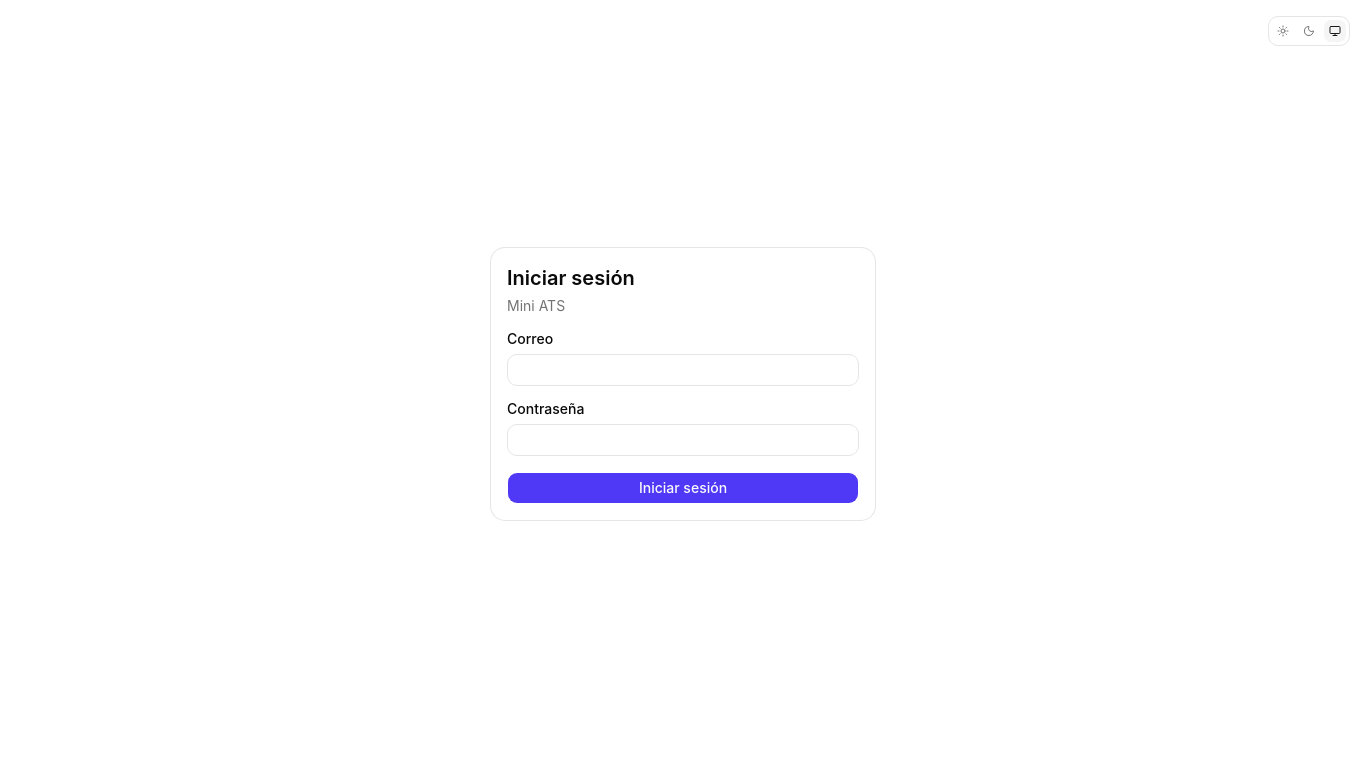
app router › goes back to the requested page after logging in
Type "ada@example.com" into the field labelled "Correo" at (683, 370), box [507,354,859,386]
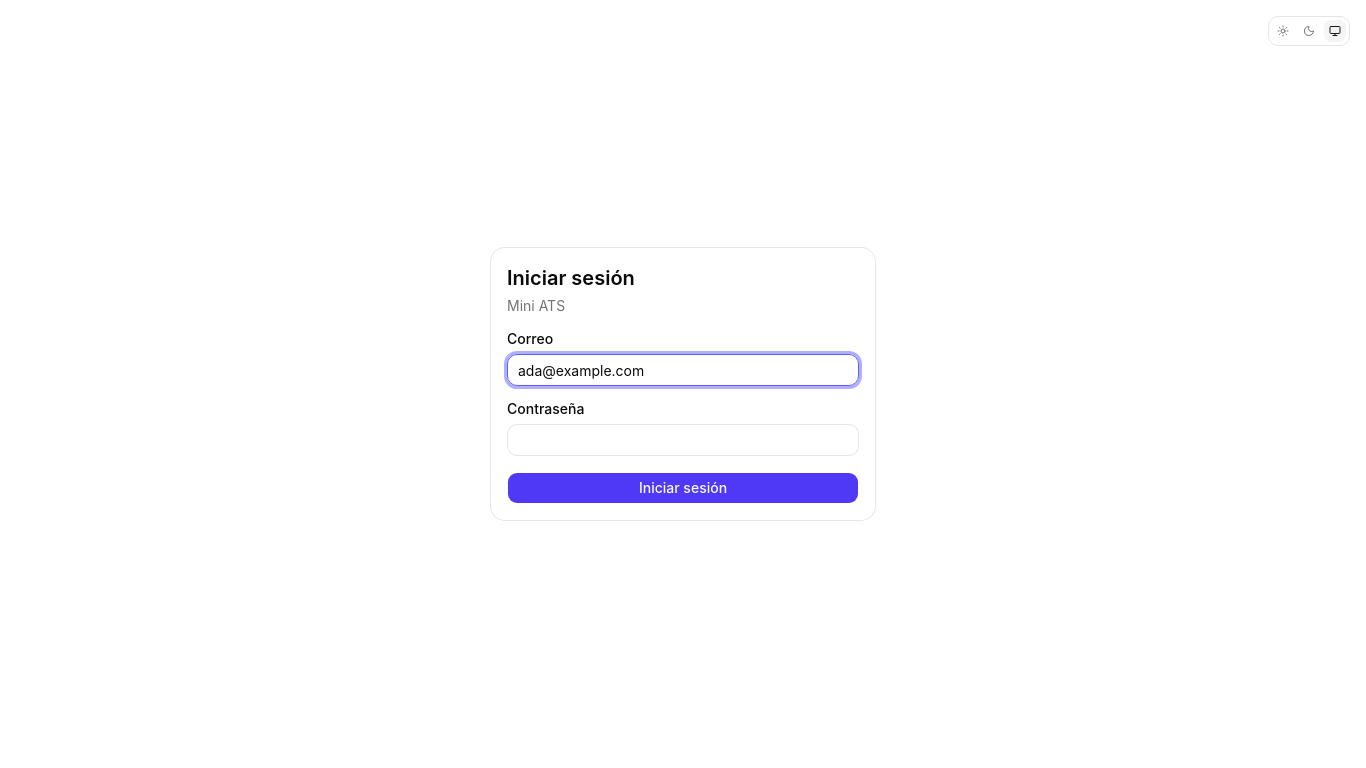
Type "Secreta-123" into the password field labelled "Contraseña" at (683, 440), box [507,424,859,456]
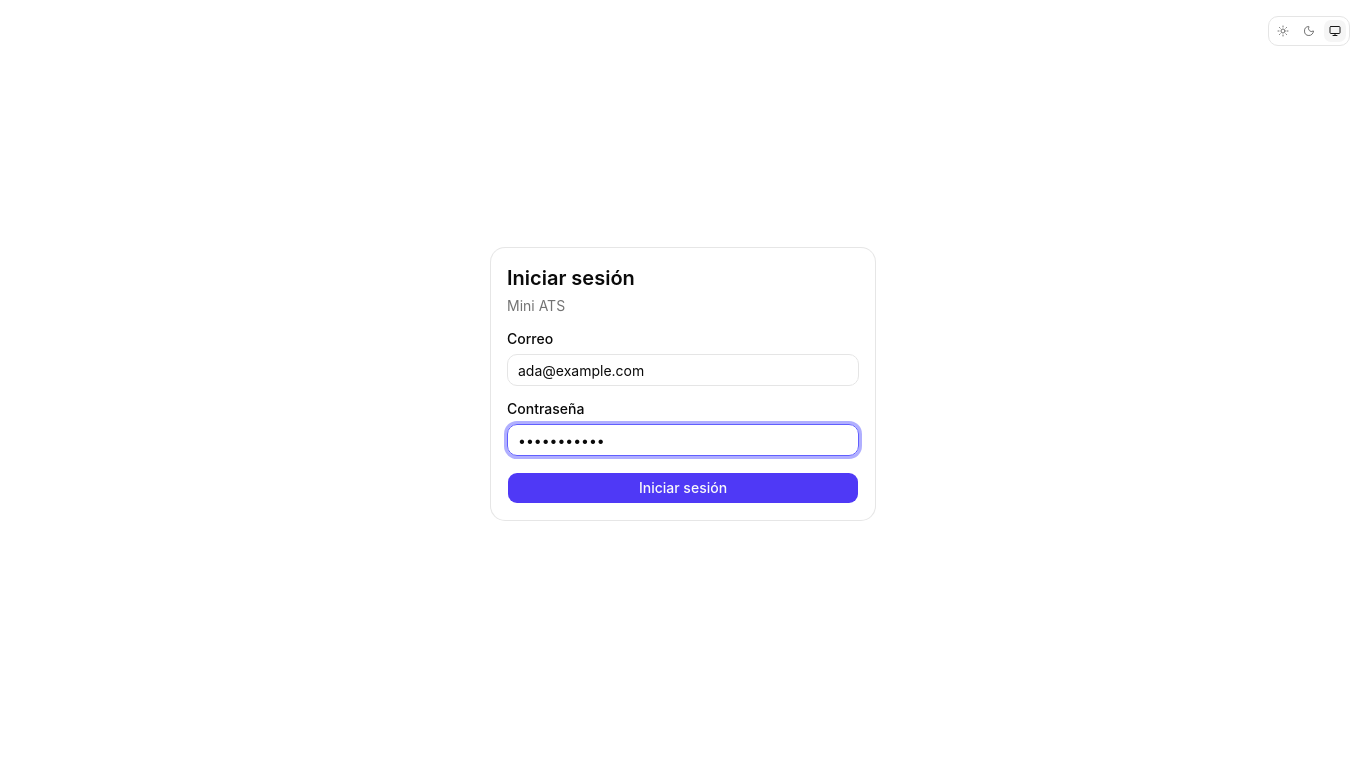
Click the button "Iniciar sesión" at (683, 488), box [507,472,859,504]
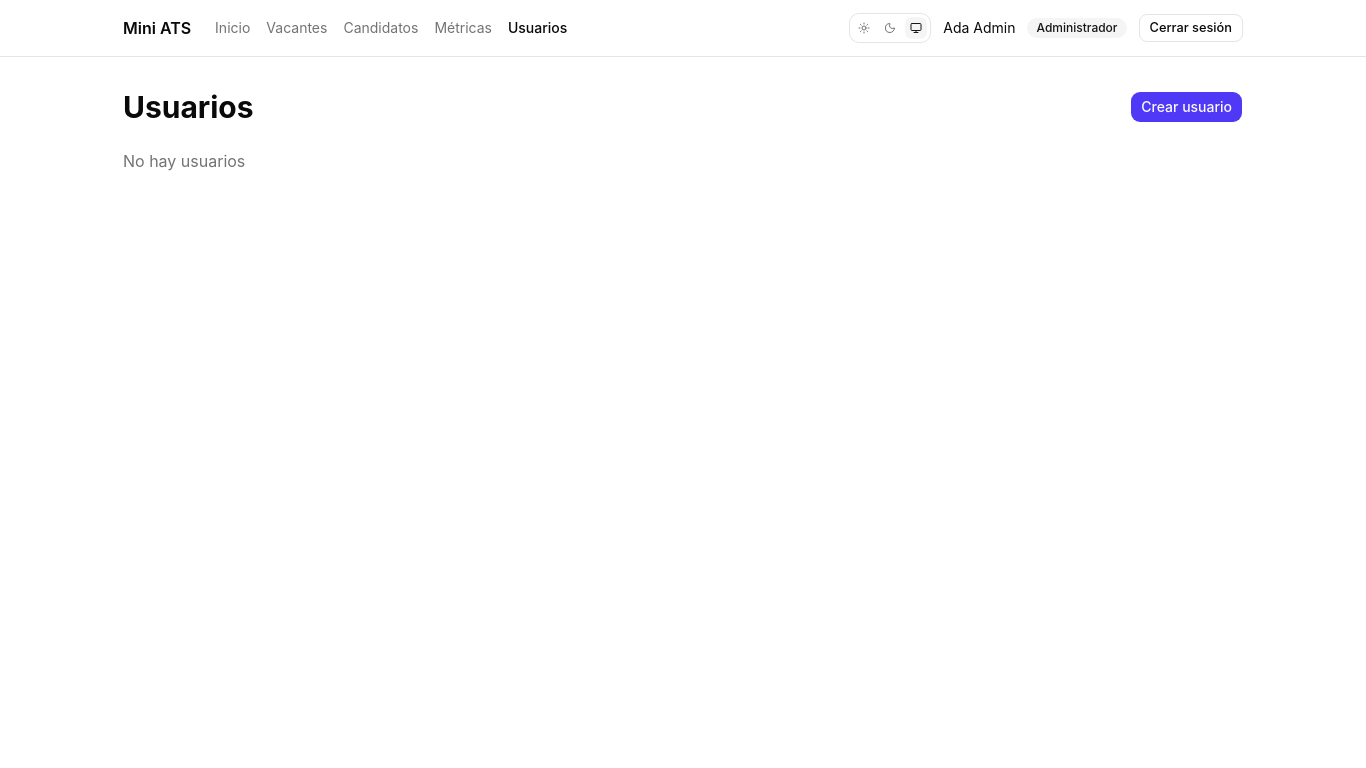
Expected: the heading "Usuarios" is shown, [123,89,254,125]
